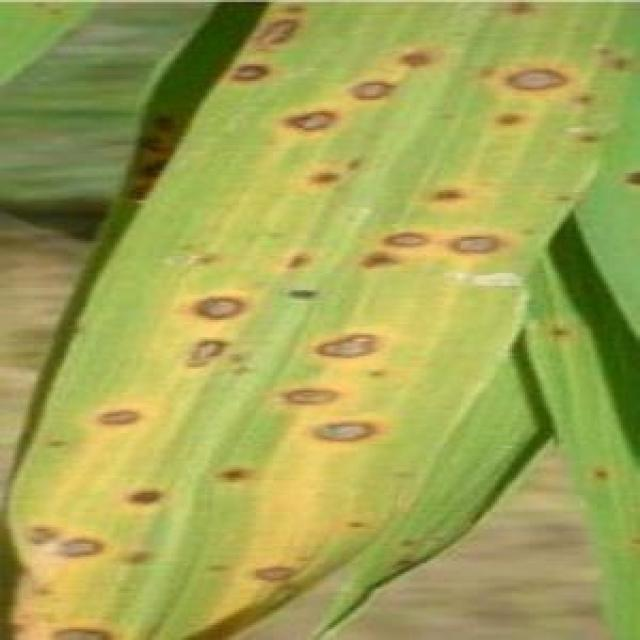Rice: (20, 514, 105, 568), (308, 317, 394, 366), (490, 54, 577, 102), (269, 367, 343, 412), (186, 285, 261, 329), (177, 320, 236, 373), (306, 146, 365, 198), (254, 559, 304, 615), (245, 5, 311, 47), (312, 414, 383, 450), (284, 101, 348, 137), (383, 220, 436, 260), (449, 224, 498, 264), (91, 401, 147, 434), (344, 69, 396, 103), (218, 458, 262, 497), (43, 615, 111, 640), (596, 46, 640, 83), (119, 480, 169, 510), (230, 56, 271, 90), (426, 173, 465, 207), (617, 160, 640, 211), (397, 48, 431, 78), (484, 105, 521, 131), (544, 320, 573, 351), (288, 282, 321, 306), (504, 0, 538, 23), (280, 247, 313, 269)
